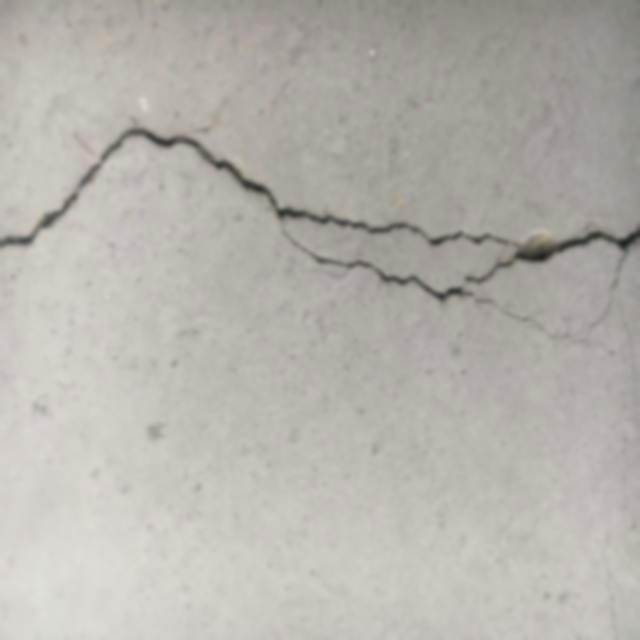SurfaceCrack: (0, 95, 639, 354)
